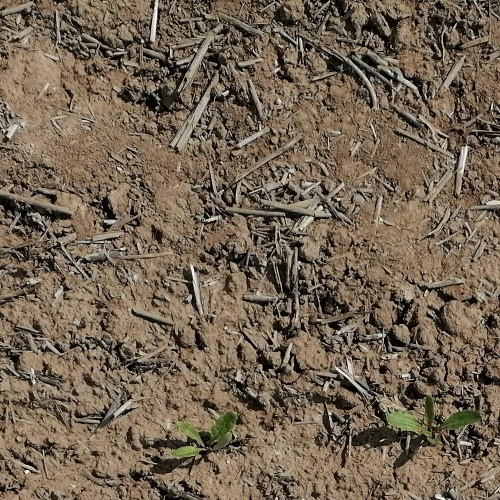beet: (386, 396, 482, 446), (171, 409, 238, 460)
